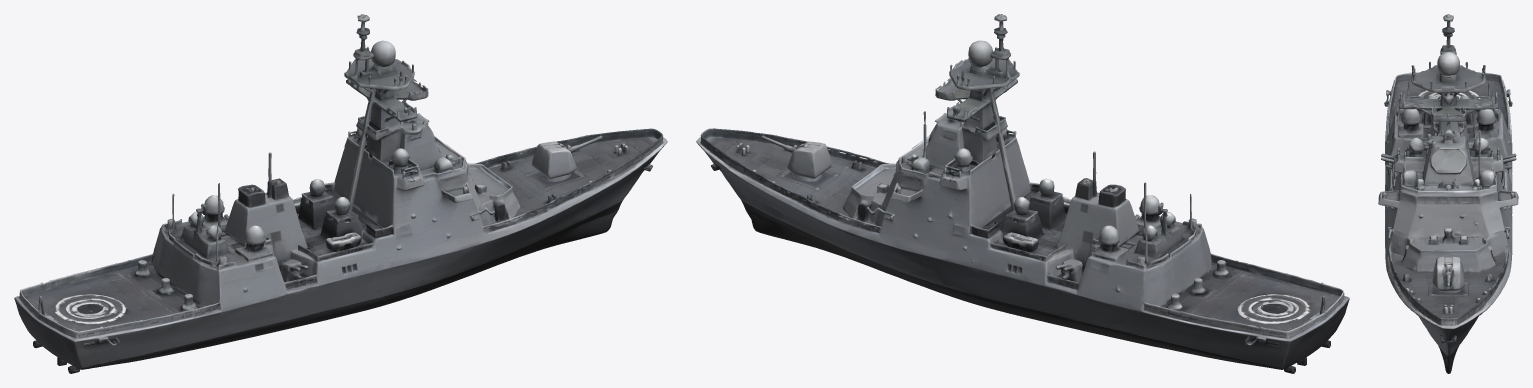
The model's file is destroyer.glb.
The picture shows the model from 3 angles, left to right: view 1: azimuth 30°, elevation 25°; view 2: azimuth 150°, elevation 25°; view 3: azimuth 270°, elevation 25°; orthographic projection. The views are drawn at different scales.
Parts seen in each view (by area): view 1: tripo_node_8b5b82f2-ec26-4800-ace1-a08df13b7bc2; view 2: tripo_node_8b5b82f2-ec26-4800-ace1-a08df13b7bc2; view 3: tripo_node_8b5b82f2-ec26-4800-ace1-a08df13b7bc2.
Boxes of the visible parts, left/top/right/bottom form: tripo_node_8b5b82f2-ec26-4800-ace1-a08df13b7bc2: left=14, top=14, right=667, bottom=373; tripo_node_8b5b82f2-ec26-4800-ace1-a08df13b7bc2: left=696, top=14, right=1349, bottom=373; tripo_node_8b5b82f2-ec26-4800-ace1-a08df13b7bc2: left=1378, top=14, right=1518, bottom=373.
Size of the model in its own units: 1 by 0.4223 by 0.2125.
1 material, 1 textured.
